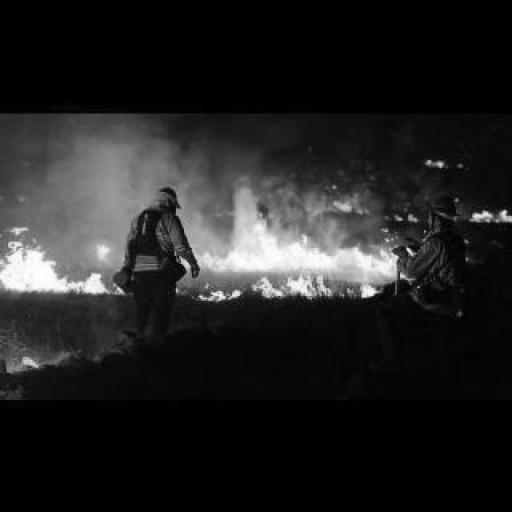smoke: (176, 176, 419, 301), (4, 232, 126, 296)
